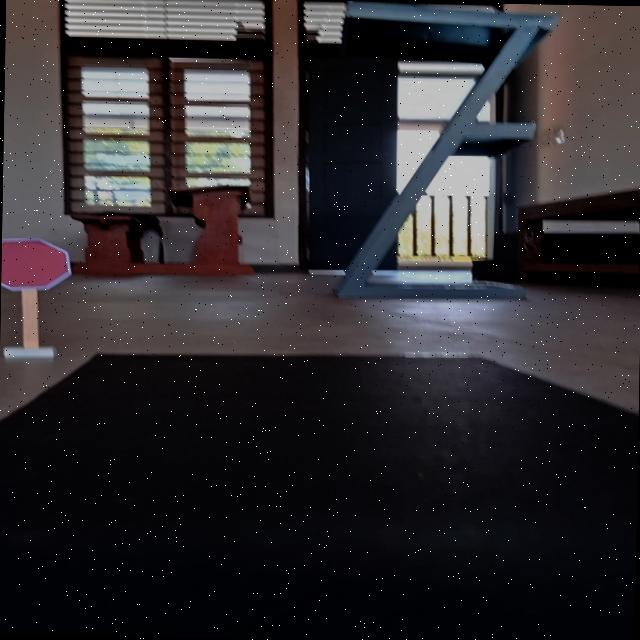Stop: (0, 235, 74, 292)
